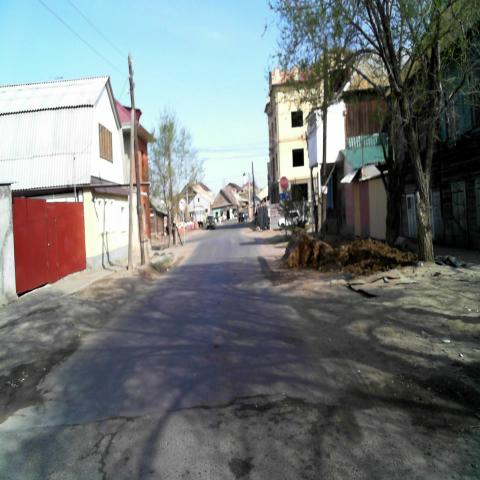2_5: (280, 175, 288, 191)
3_18_2: (177, 198, 188, 212)
